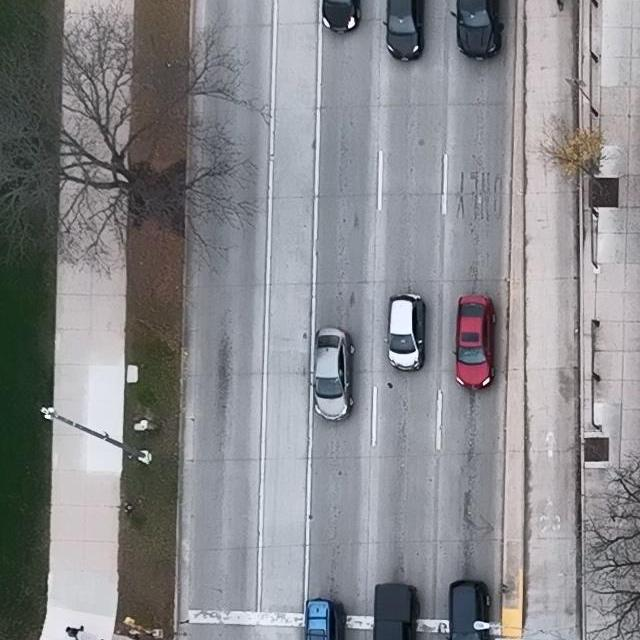car: (311, 326, 356, 422), (453, 293, 497, 390), (384, 294, 430, 372), (449, 0, 505, 61), (381, 0, 426, 61), (373, 583, 420, 640), (448, 579, 491, 640), (301, 599, 344, 640), (321, 0, 361, 33)
